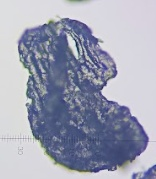microplastic: (15, 19, 151, 175), (58, 16, 120, 94), (130, 162, 156, 178)
